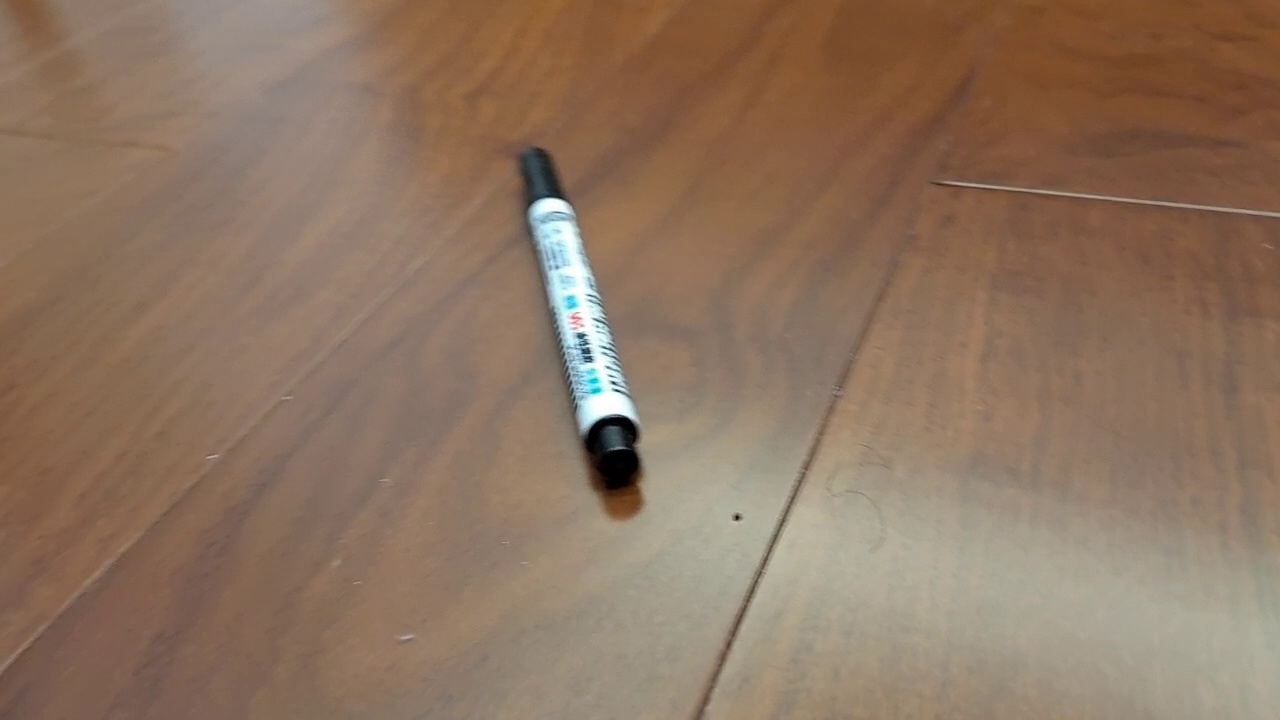pen: (514, 145, 645, 492)
